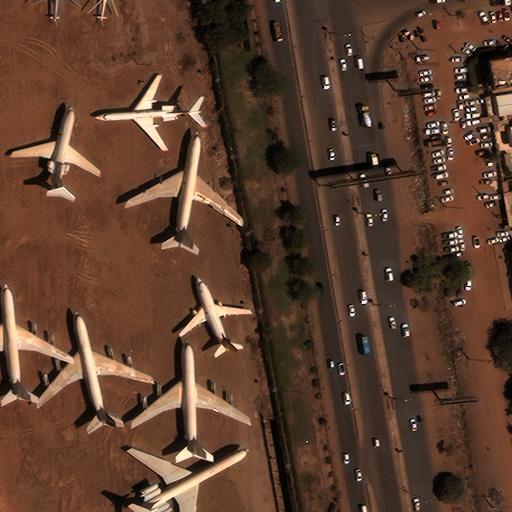Large Civil Transport: (130, 339, 249, 457), (126, 130, 242, 247), (36, 310, 154, 425), (0, 281, 73, 399)
Medium Civil Transport: (12, 104, 101, 198), (178, 277, 250, 350)
Military Transport: (94, 74, 201, 150), (132, 447, 249, 512)
